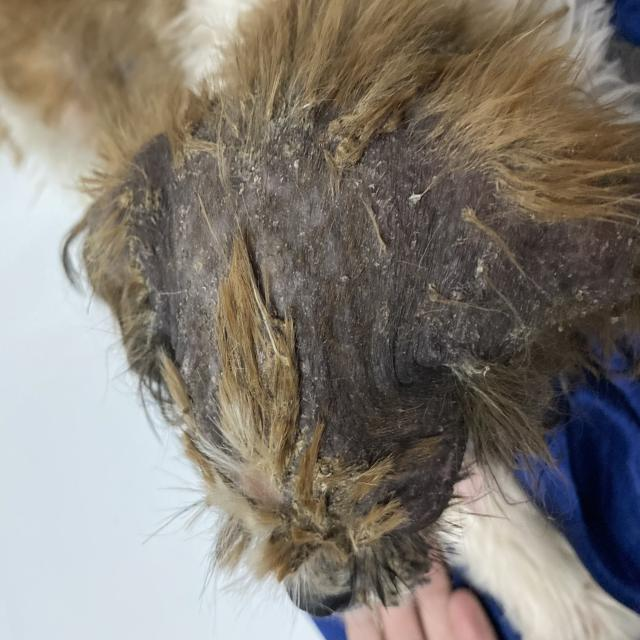demodicosis: (278, 172, 444, 405), (133, 153, 240, 349)
